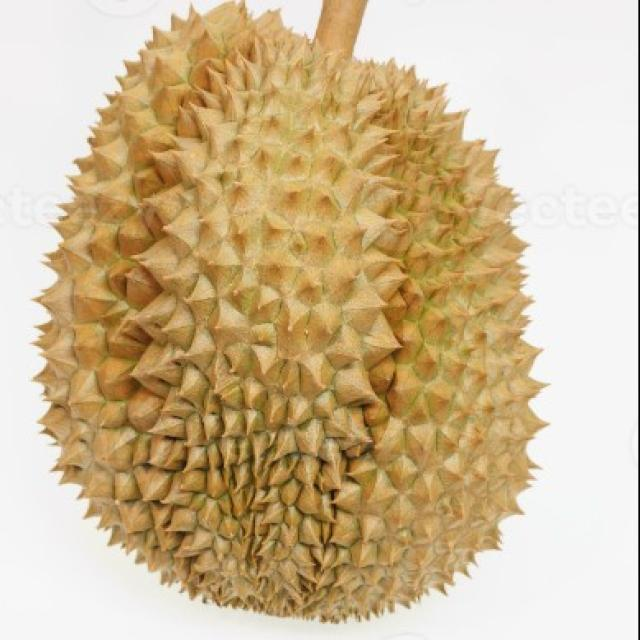mature: (29, 0, 549, 620)
